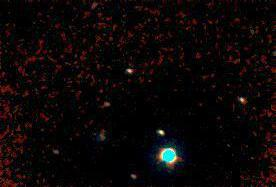star: (152, 147, 182, 177)
